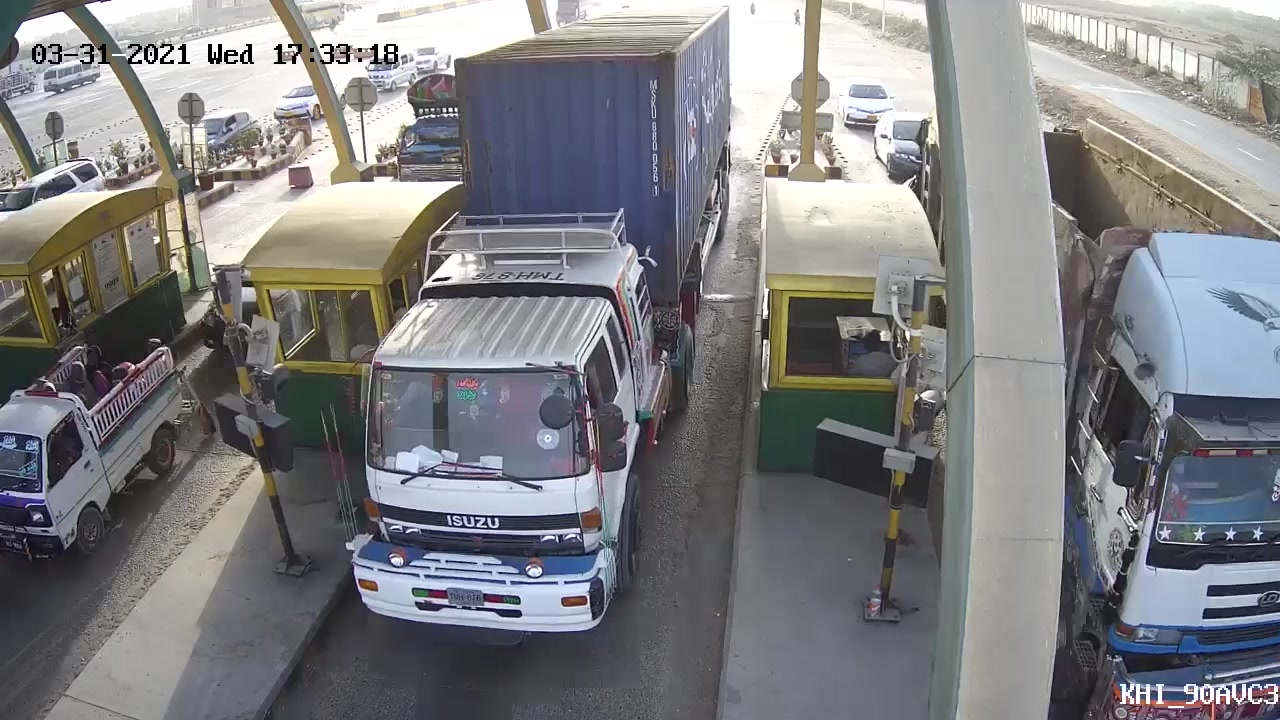F6: (337, 1, 756, 637)
